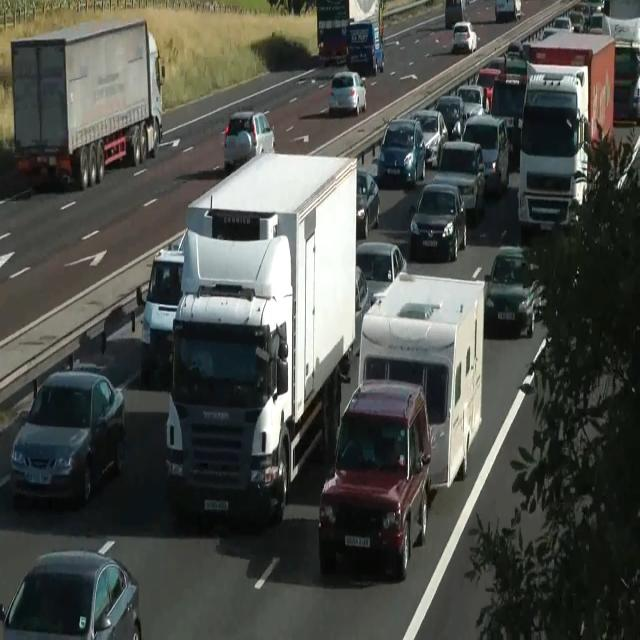bus: (10, 367, 126, 506), (1, 547, 141, 639), (484, 244, 544, 338), (409, 182, 467, 262), (338, 264, 369, 382), (355, 241, 407, 305), (223, 110, 275, 173), (408, 108, 448, 169), (613, 46, 639, 124), (328, 70, 366, 116), (356, 168, 380, 238), (434, 95, 466, 141), (354, 265, 370, 355), (616, 136, 640, 196), (475, 66, 501, 113), (455, 84, 486, 119), (451, 20, 477, 54), (542, 16, 574, 40), (503, 40, 525, 70), (495, 0, 521, 22), (568, 10, 585, 33), (373, 41, 384, 74), (552, 16, 573, 32)
jeep: (318, 378, 432, 580), (138, 245, 184, 382), (434, 139, 486, 221), (461, 113, 509, 194), (377, 116, 426, 186)
minibus: (164, 150, 358, 528), (357, 270, 485, 489), (10, 17, 165, 189), (517, 31, 615, 234), (316, 0, 382, 66), (345, 18, 384, 76), (316, 0, 349, 65), (444, 0, 467, 29)
